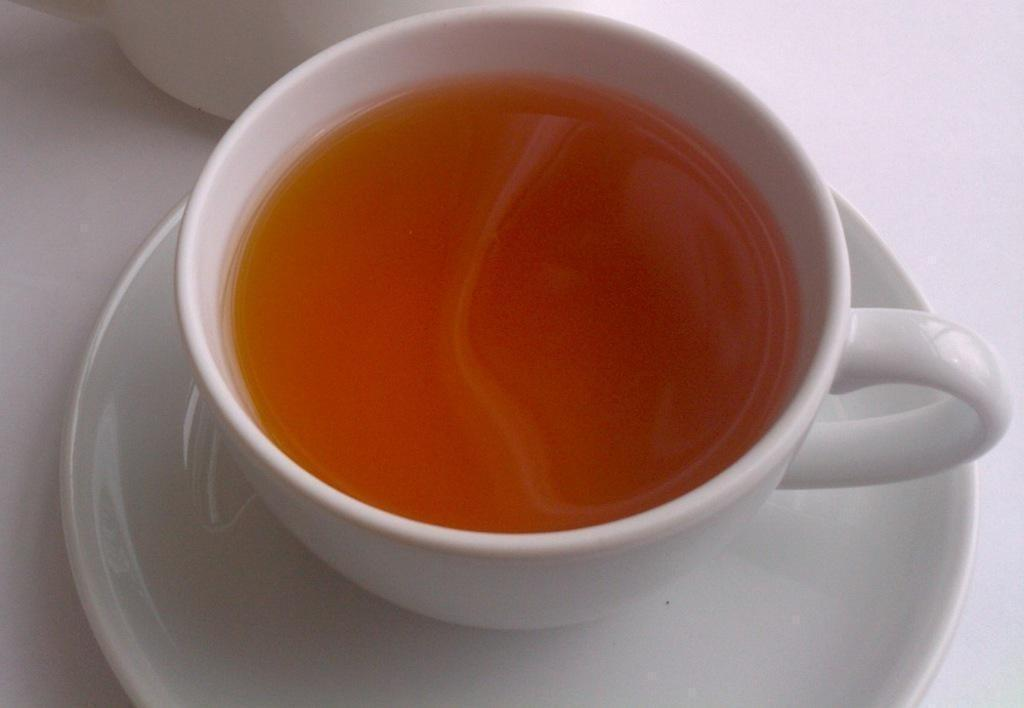cup-handle: (165, 0, 1010, 637)
